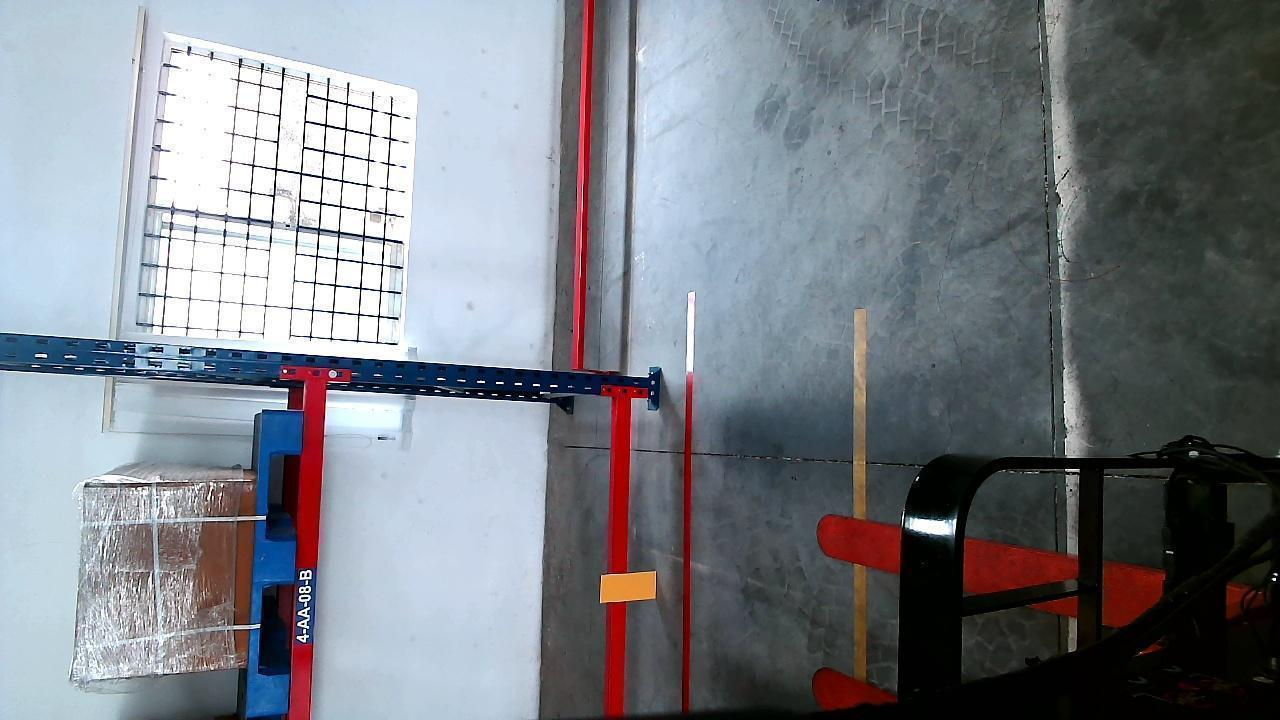red_line: (679, 288, 699, 710)
yellow_line: (851, 305, 869, 684)
